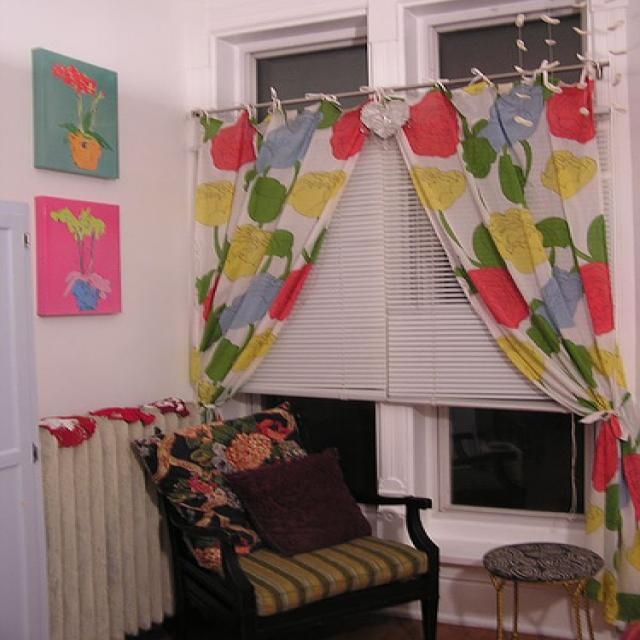chair: (124, 393, 451, 640)
